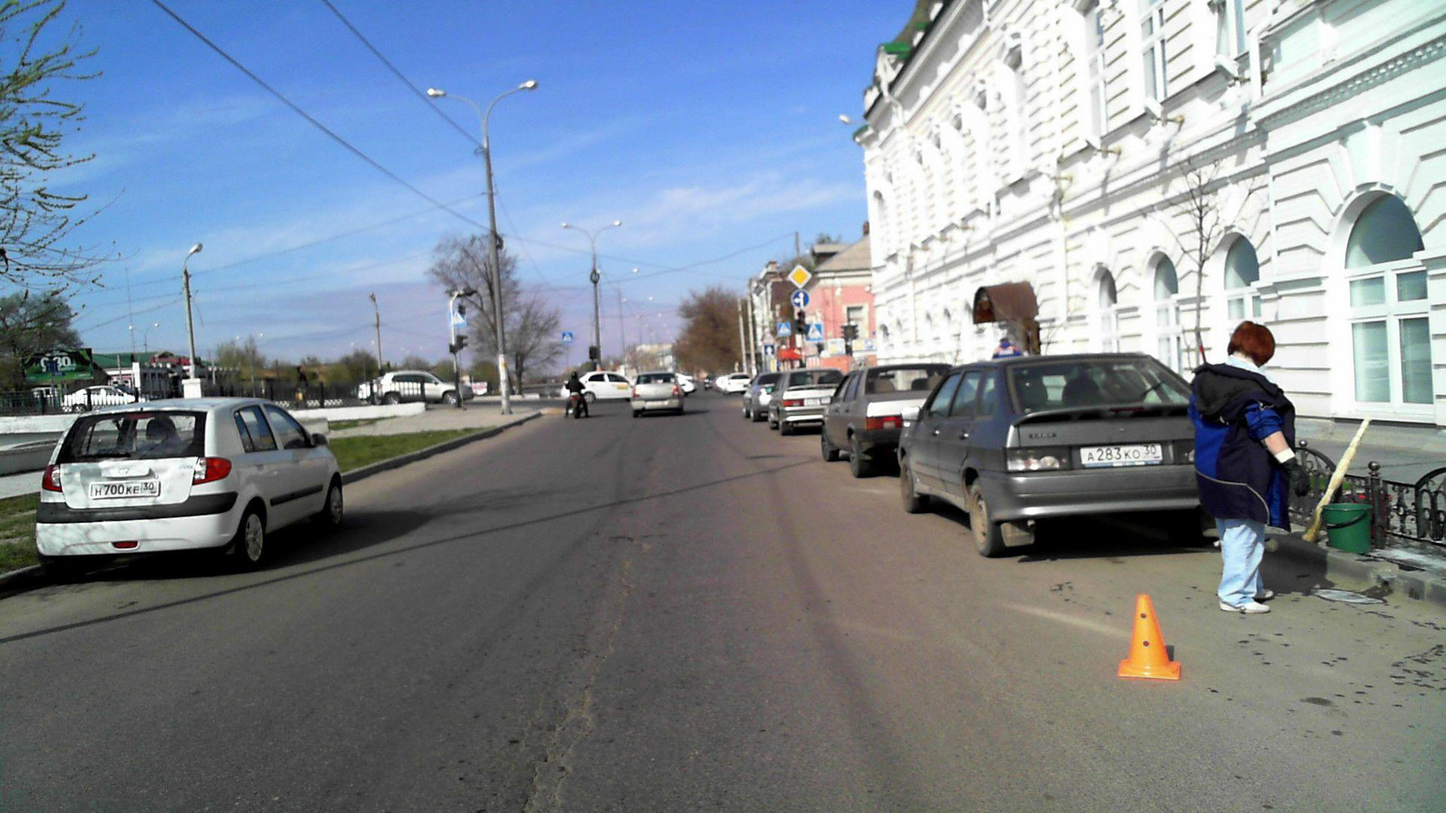road_sign: (787, 264, 813, 289), (791, 289, 810, 308)
traffic light: (797, 310, 805, 334)
